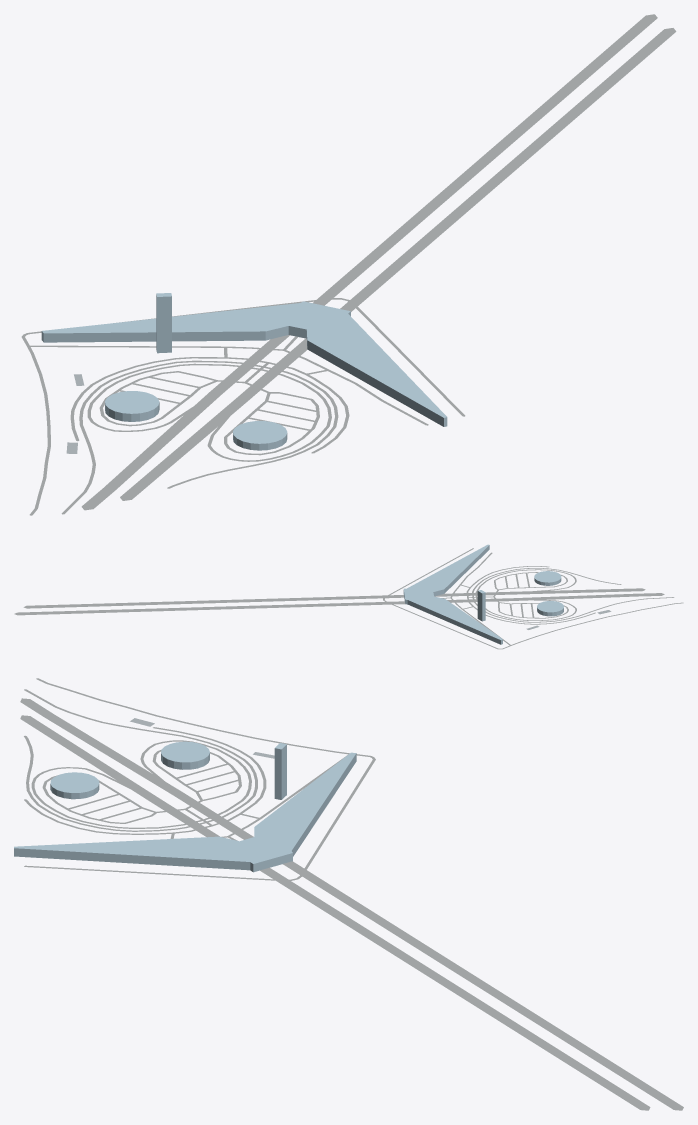
Rendered from -27_4-known-coarse.glb.
The picture shows the model from 3 angles, top to bottom: view 1: azimuth 30°, elevation 25°; view 2: azimuth 150°, elevation 25°; view 3: azimuth 270°, elevation 25°; orthographic projection. The views are drawn at different scales.
Bounding box in the file's own units: 1006 × 55 × 659.
